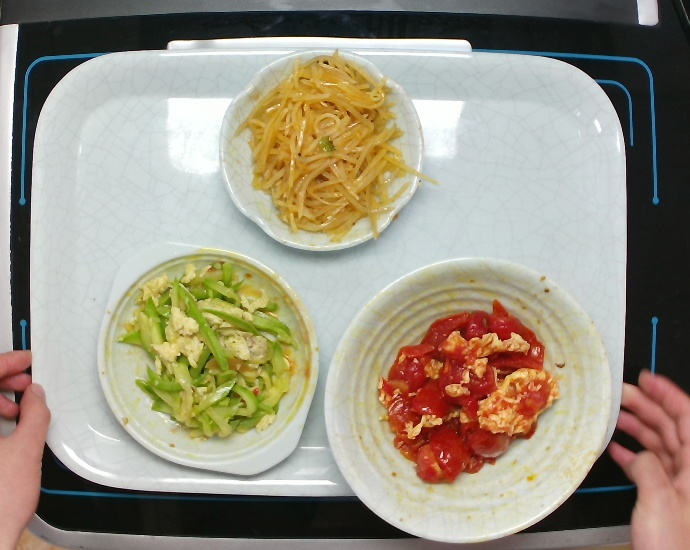JYsf-Ao_Yuan_Wan: (220, 46, 424, 260)
JYsf-Shuang_Er_Pan: (94, 238, 316, 479)
JYsf-Xiao_Tang_Wan: (319, 256, 610, 542)
